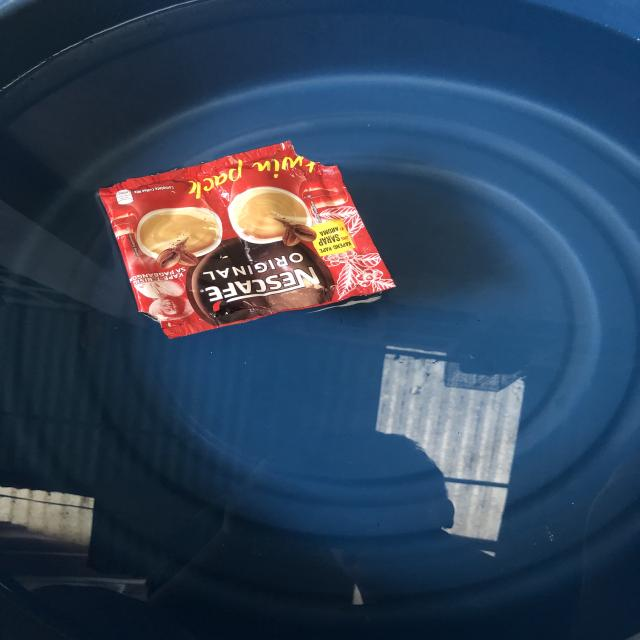Plastic Wrapper: (78, 124, 417, 355)
